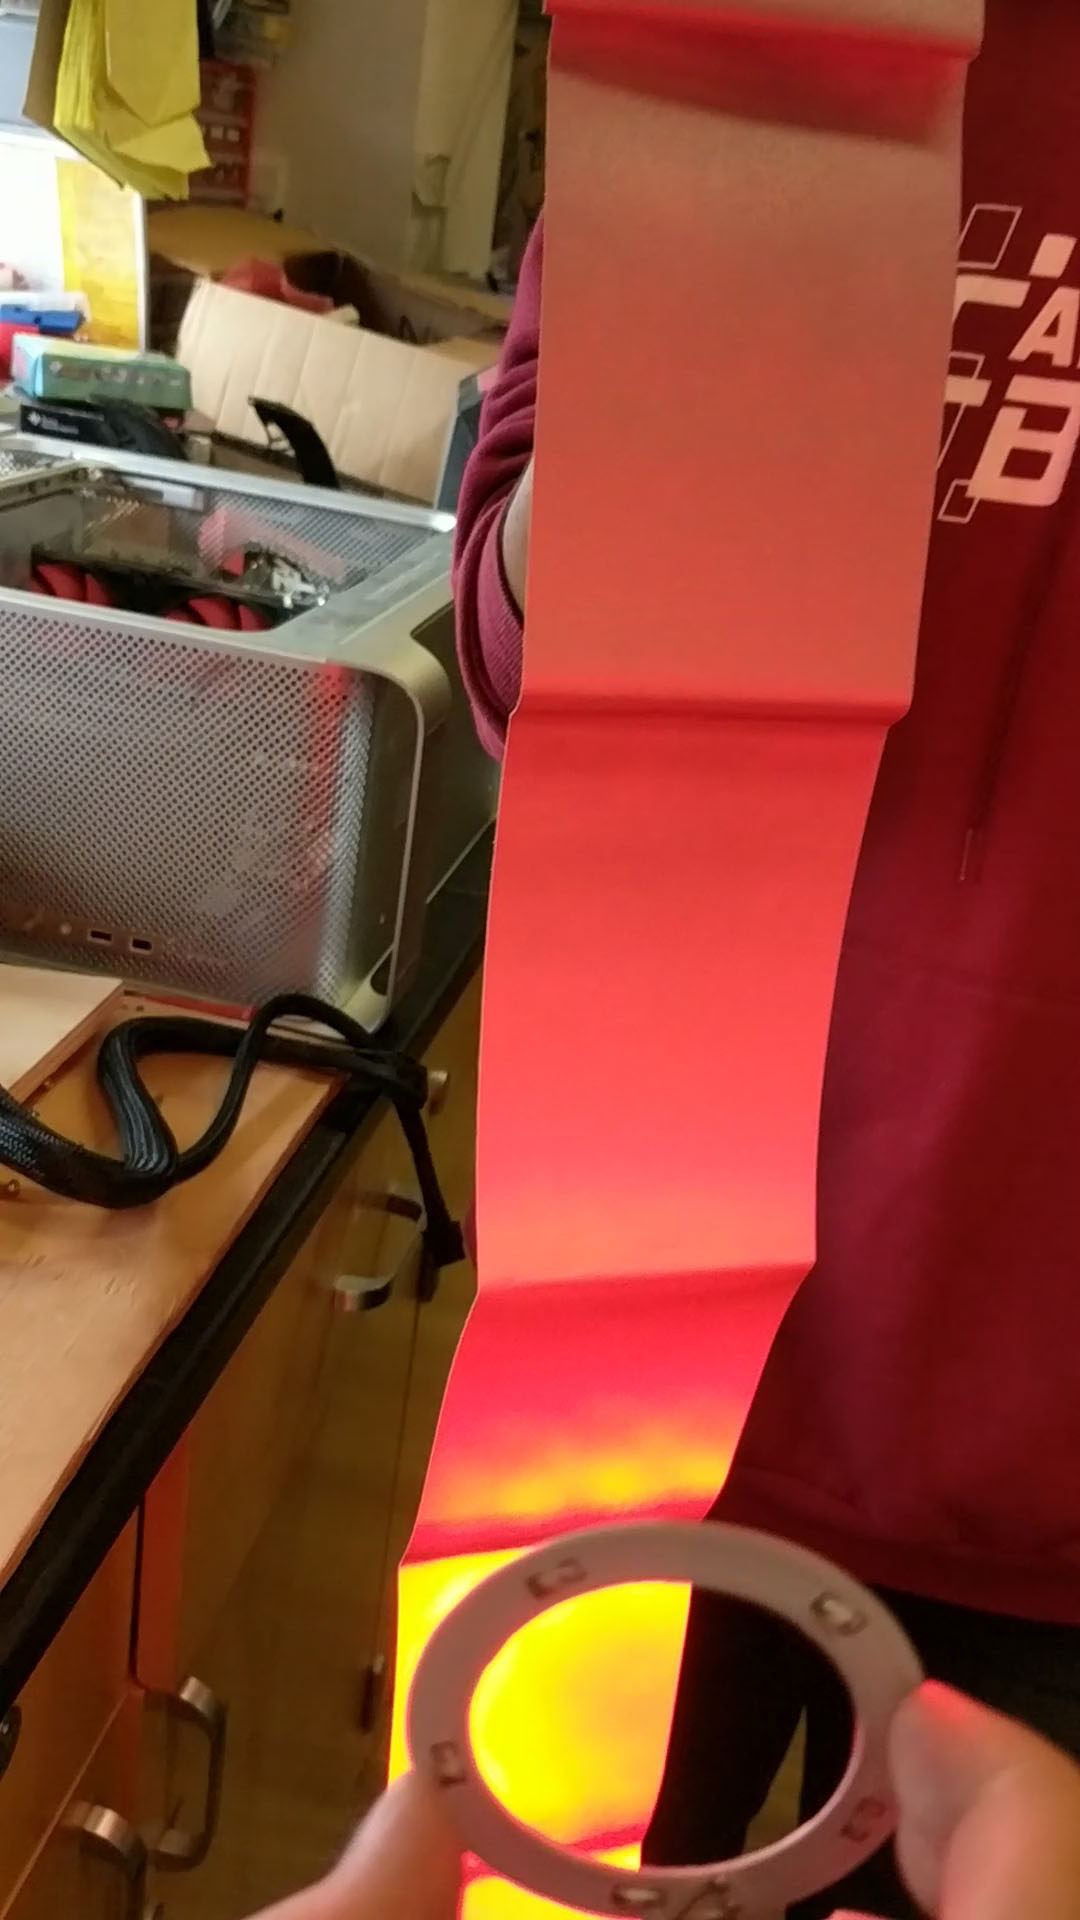gear: (452, 0, 940, 1920)
